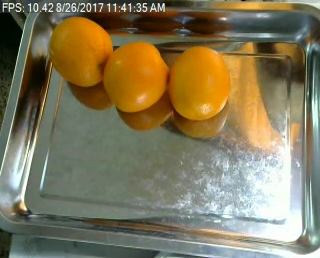Orange: (49, 14, 114, 87), (103, 42, 169, 113), (167, 46, 230, 119)
